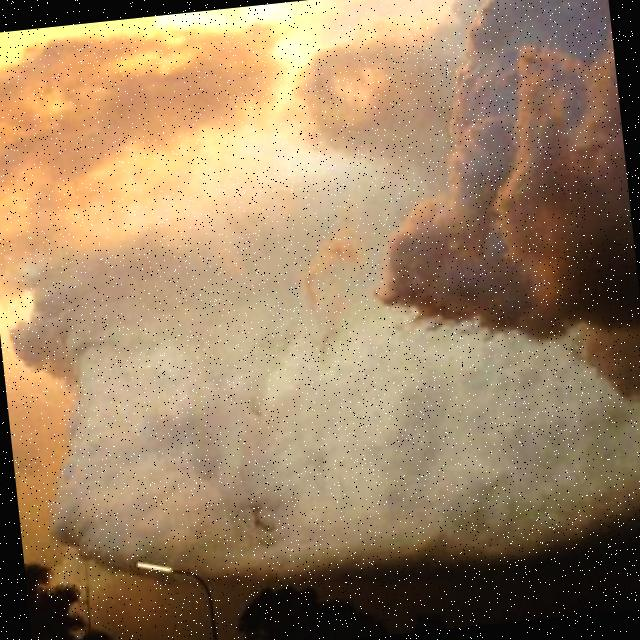Cb: (1, 15, 640, 526)
